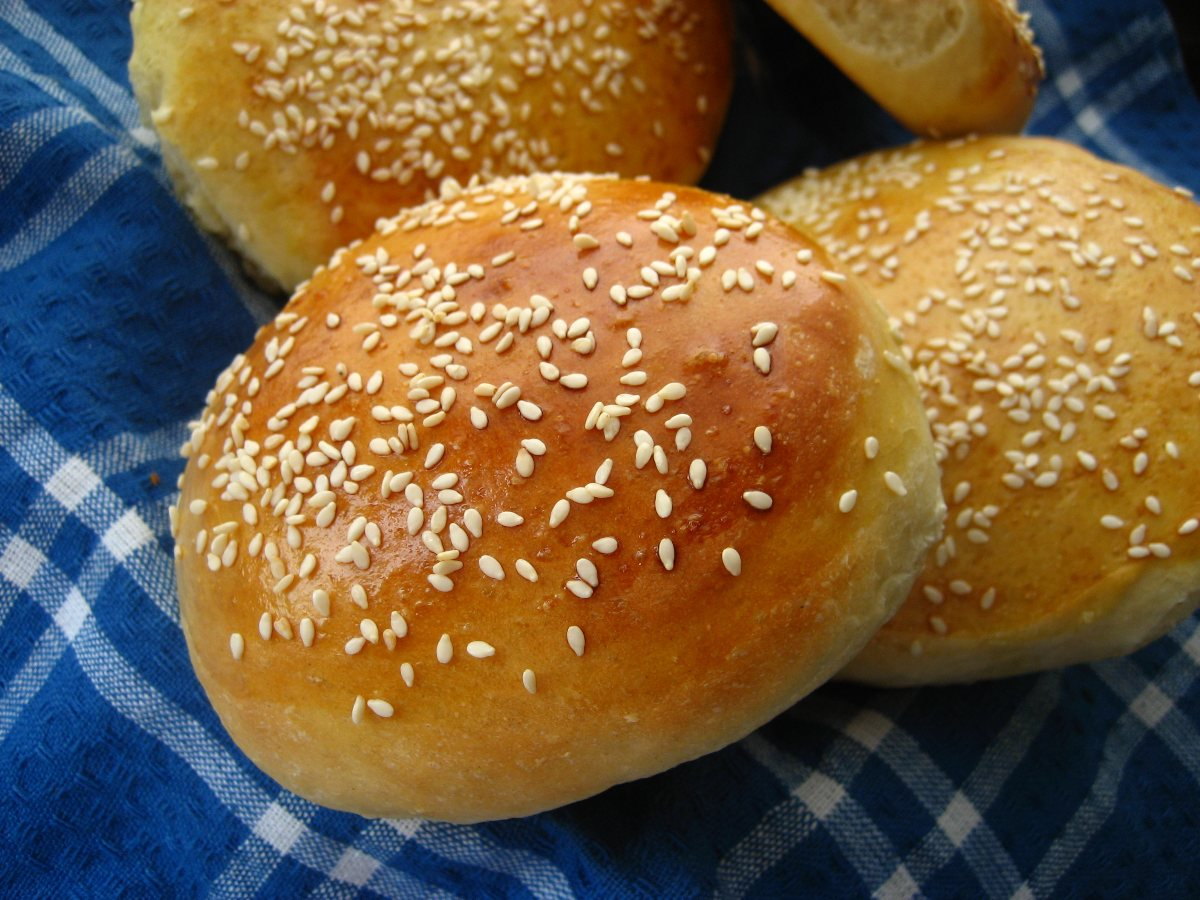hamburger_buns: (131, 185, 933, 787), (780, 152, 1200, 703), (85, 1, 740, 243)
